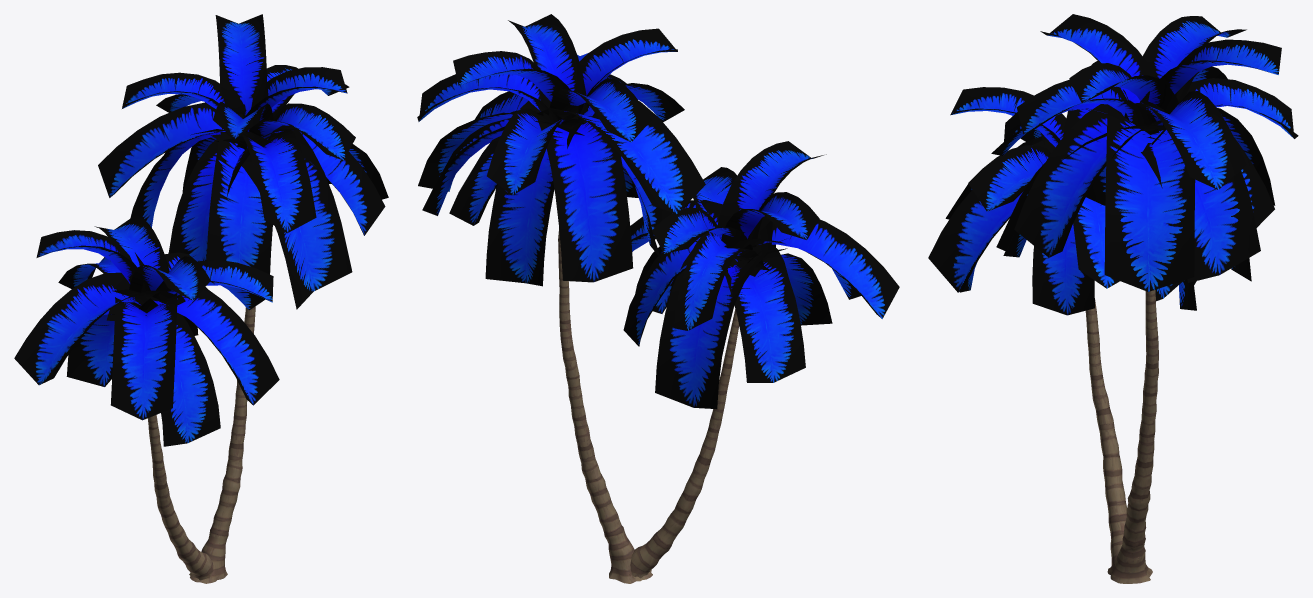
Rendered from Homeworld_Exterior_Common_Plant_Tree_15_Lod0.fbx.
The picture shows the model from 3 angles, left to right: view 1: azimuth 30°, elevation 25°; view 2: azimuth 150°, elevation 25°; view 3: azimuth 270°, elevation 25°; orthographic projection. The views are drawn at different scales.
Parts seen in each view (by area): view 1: Homeworld_Exterior_Common_Plant_Tree_15_Leaf_Lod0, Homeworld_Exterior_Common_Plant_Tree_15_Bark_Lod0; view 2: Homeworld_Exterior_Common_Plant_Tree_15_Leaf_Lod0, Homeworld_Exterior_Common_Plant_Tree_15_Bark_Lod0; view 3: Homeworld_Exterior_Common_Plant_Tree_15_Leaf_Lod0, Homeworld_Exterior_Common_Plant_Tree_15_Bark_Lod0.
Part boxes in pixels (bbox=[...]): Homeworld_Exterior_Common_Plant_Tree_15_Leaf_Lod0: bbox=[14, 14, 388, 446]; Homeworld_Exterior_Common_Plant_Tree_15_Bark_Lod0: bbox=[148, 306, 255, 583]; Homeworld_Exterior_Common_Plant_Tree_15_Leaf_Lod0: bbox=[417, 14, 899, 409]; Homeworld_Exterior_Common_Plant_Tree_15_Bark_Lod0: bbox=[558, 229, 739, 583]; Homeworld_Exterior_Common_Plant_Tree_15_Leaf_Lod0: bbox=[928, 14, 1298, 315]; Homeworld_Exterior_Common_Plant_Tree_15_Bark_Lod0: bbox=[1085, 290, 1158, 583].
Size of the model in its own units: 6.77 by 8.37 by 4.94.
